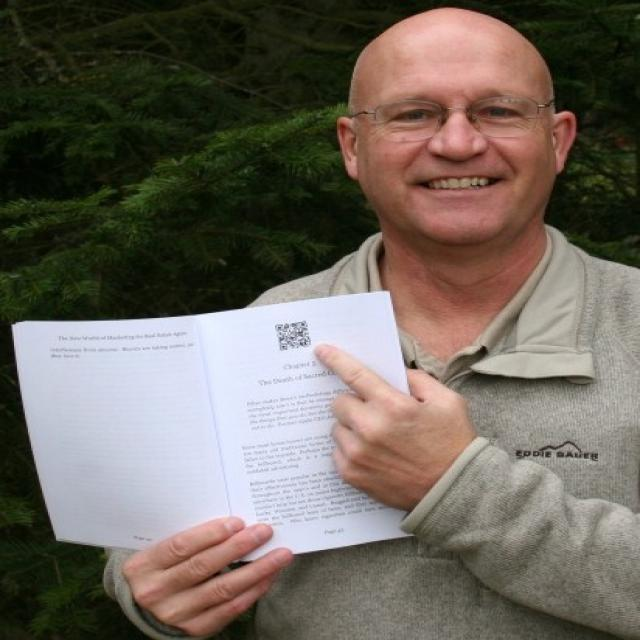qr_code: (275, 321, 311, 351)
